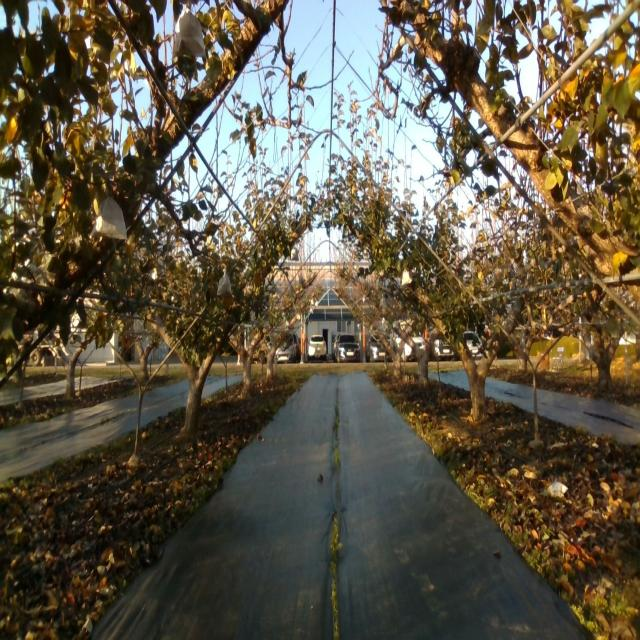pearbags: (172, 8, 206, 58), (96, 196, 128, 242), (217, 271, 232, 297)
